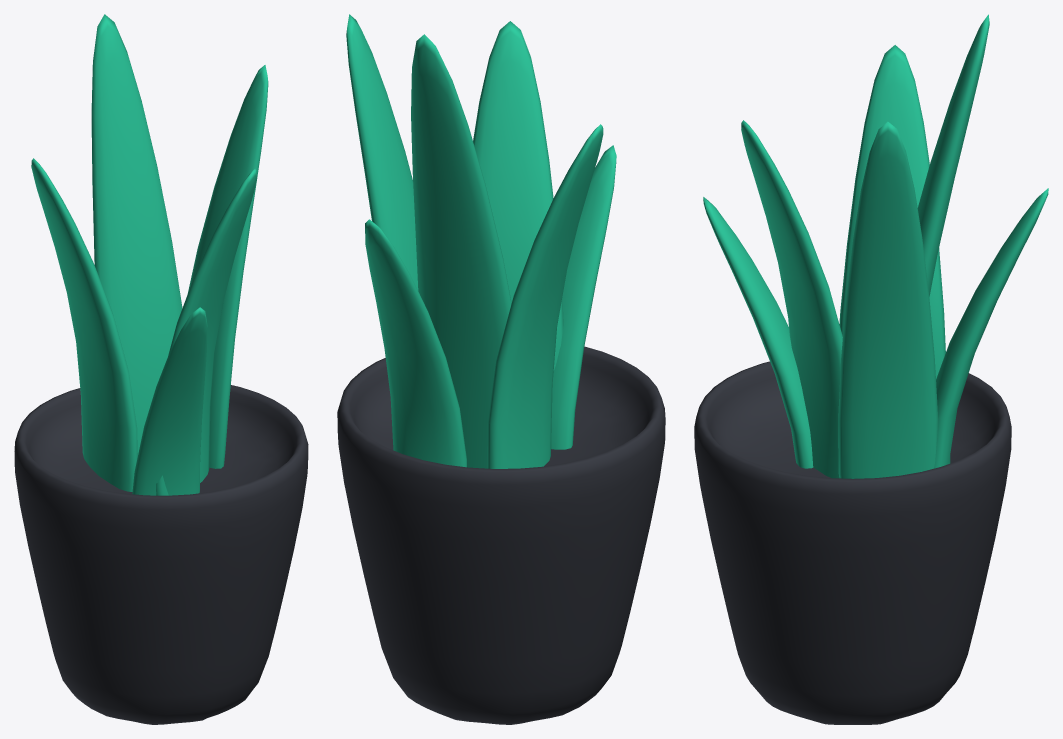
File: Pflanze.gltf
The picture shows the model from 3 angles, left to right: view 1: azimuth 30°, elevation 25°; view 2: azimuth 150°, elevation 25°; view 3: azimuth 270°, elevation 25°; orthographic projection. The views are drawn at different scales.
Visible parts, largest first — view 1: Topf; view 2: Topf; view 3: Topf.
Part boxes in pixels (box(x1,y1,x2,y2)): Topf: box(14, 14, 308, 724); Topf: box(337, 14, 665, 724); Topf: box(694, 14, 1048, 724).
Bounding box in the file's own units: 0.0715 × 0.1707 × 0.0799.
